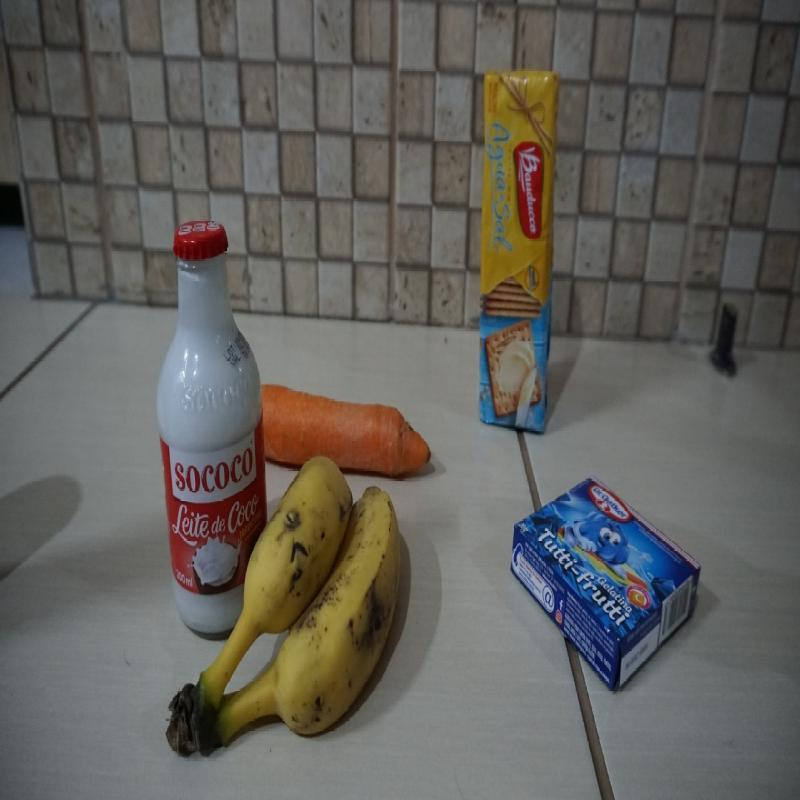Banana: (162, 457, 403, 762)
Carrot: (260, 382, 434, 480)
Coconut Milk: (156, 218, 268, 639)
Cracker: (476, 64, 563, 430)
Gelatine: (508, 474, 701, 693)
